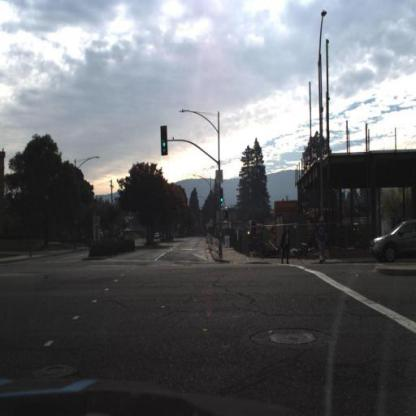car: (367, 220, 416, 262)
pedestrian: (280, 221, 292, 265), (316, 216, 327, 262)
trafficLight-Green: (161, 127, 170, 155), (220, 187, 226, 205)
